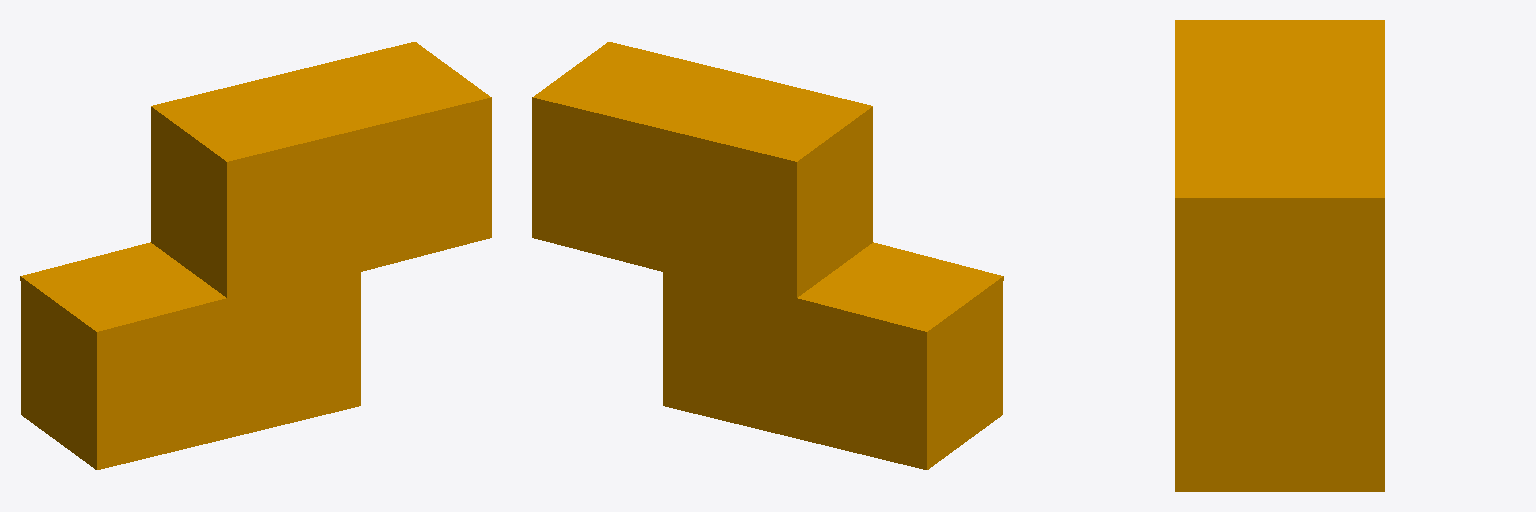
robot.urdf — 2_3Z_2:
<robot name="2_3Z_2">
  <link name="link">
    <visual>
      <geometry>
        <mesh filename="2_3Z_2.obj" scale="1 1 1"/>
      </geometry>
    </visual>
    <collision>
      <geometry>
        <mesh filename="2_3Z_2.obj" scale="1 1 1"/>
      </geometry>
    </collision>
    <inertial>
      <mass value="1"/>
      <inertia ixx="1" iyy="1" izz="1" ixy="0" ixz="0" iyz="0"/>
      <origin xyz="0 0 0" rpy="0 0 0"/>
    </inertial>
  </link>
</robot>

--- Facts derived from the render (not from the file) ---
The picture shows the robot from 3 angles, left to right: view 1: azimuth 30°, elevation 25°; view 2: azimuth 150°, elevation 25°; view 3: azimuth 270°, elevation 25°; orthographic projection.
Model 2_3Z_2 with 1 links and 0 joints (none), rooted at link, posed all joints at 0.
Links seen in each view (by area): view 1: link; view 2: link; view 3: link.
Boxes of the visible links, bbox=[...] form: link: bbox=[20, 42, 491, 469]; link: bbox=[532, 42, 1003, 469]; link: bbox=[1175, 20, 1384, 491].
Size in the robot's own frame: 0.1767 by 0.0592 by 0.1184 metres.
1 mesh visuals loaded from 1 distinct referenced files (1 OBJ).